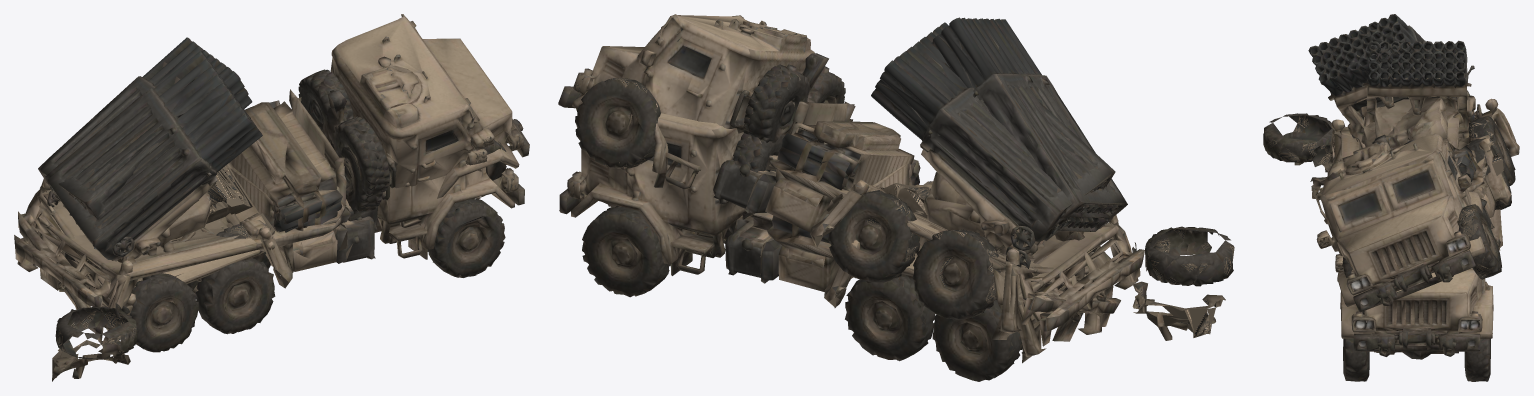
Rendered from rocket_battery.glb.
3 views of the same model, side by side, from view 1: azimuth 30°, elevation 25°; view 2: azimuth 150°, elevation 25°; view 3: azimuth 270°, elevation 25° (orthographic). The views are drawn at different scales.
Visible parts, largest first — view 1: WRECK_hull_hull, WRECK_hull_metal, WRECK_hull_plate, hull_plate, hull_rubber, hull_hull, hull_metal, WRECK_hull_rubber; view 2: WRECK_hull_rubber, WRECK_hull_hull, hull_metal, WRECK_hull_plate, hull_hull, hull_rubber, WRECK_hull_metal, hull_plate; view 3: WRECK_hull_hull, hull_hull, WRECK_hull_metal, hull_metal, WRECK_hull_rubber, WRECK_hull_plate, hull_rubber, hull_plate.
Boxes of the visible parts, x1,y1,x2,y2 form: WRECK_hull_hull: (298, 14, 529, 230); WRECK_hull_metal: (40, 51, 274, 306); WRECK_hull_plate: (18, 89, 350, 346); hull_plate: (14, 168, 347, 329); hull_rubber: (85, 197, 505, 352); hull_hull: (321, 123, 524, 262); hull_metal: (38, 37, 273, 274); WRECK_hull_rubber: (52, 140, 506, 381); WRECK_hull_rubber: (575, 78, 1234, 340); WRECK_hull_hull: (558, 14, 845, 210); hull_metal: (851, 22, 1118, 293); WRECK_hull_plate: (745, 100, 1120, 341); hull_hull: (559, 102, 794, 277); hull_rubber: (582, 204, 1022, 381); WRECK_hull_metal: (850, 17, 1127, 268); hull_plate: (760, 159, 1144, 363); WRECK_hull_hull: (1316, 133, 1500, 312); hull_hull: (1335, 191, 1493, 356); WRECK_hull_metal: (1308, 14, 1498, 160); hull_metal: (1331, 40, 1496, 148); WRECK_hull_rubber: (1263, 113, 1515, 313); WRECK_hull_plate: (1443, 108, 1519, 227); hull_rubber: (1343, 237, 1502, 381); hull_plate: (1331, 127, 1502, 251).
Size of the model in its own units: 6.4 by 3.24 by 3.
Materials: 1 (1 with a texture image).
